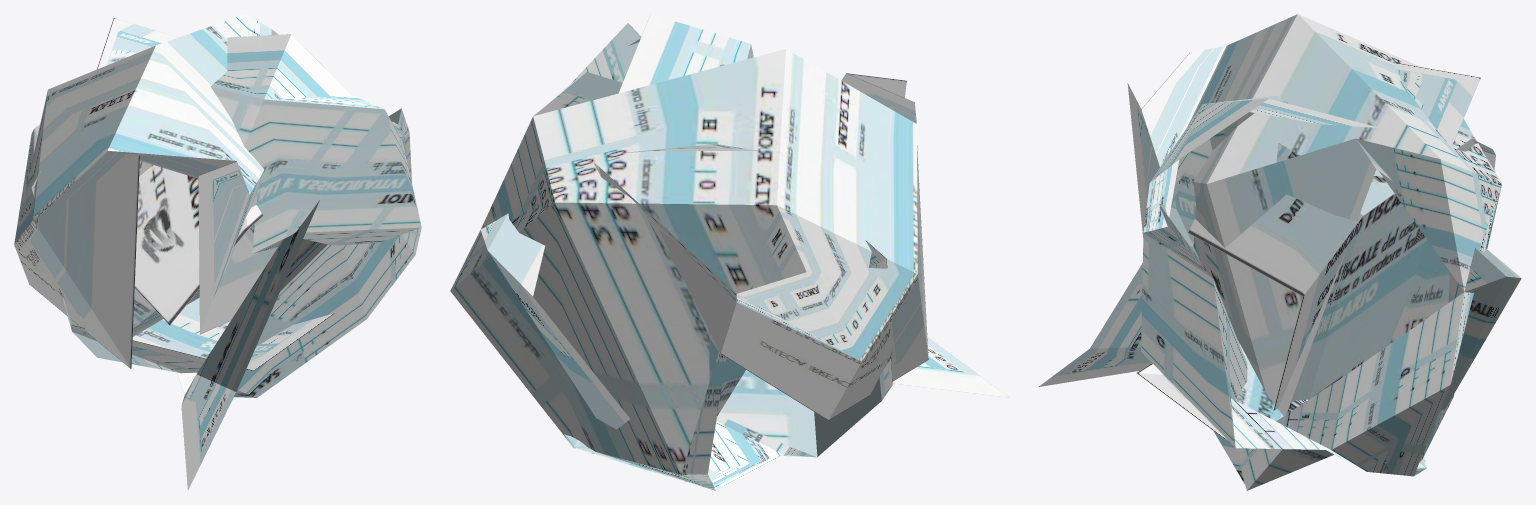
Rendered from Global_WastePaper_Type_002.fbx.
3 renders of one model, left to right at view 1: azimuth 30°, elevation 25°; view 2: azimuth 150°, elevation 25°; view 3: azimuth 270°, elevation 25°, orthographic. The views are drawn at different scales.
Visible parts, largest first — view 1: Plane.002; view 2: Plane.002; view 3: Plane.002.
Boxes of the visible parts, left/top/right/bottom form: Plane.002: left=14, top=14, right=421, bottom=489; Plane.002: left=450, top=14, right=1008, bottom=490; Plane.002: left=1039, top=14, right=1521, bottom=490.
Bounding box in the file's own units: 338 × 329 × 337.
